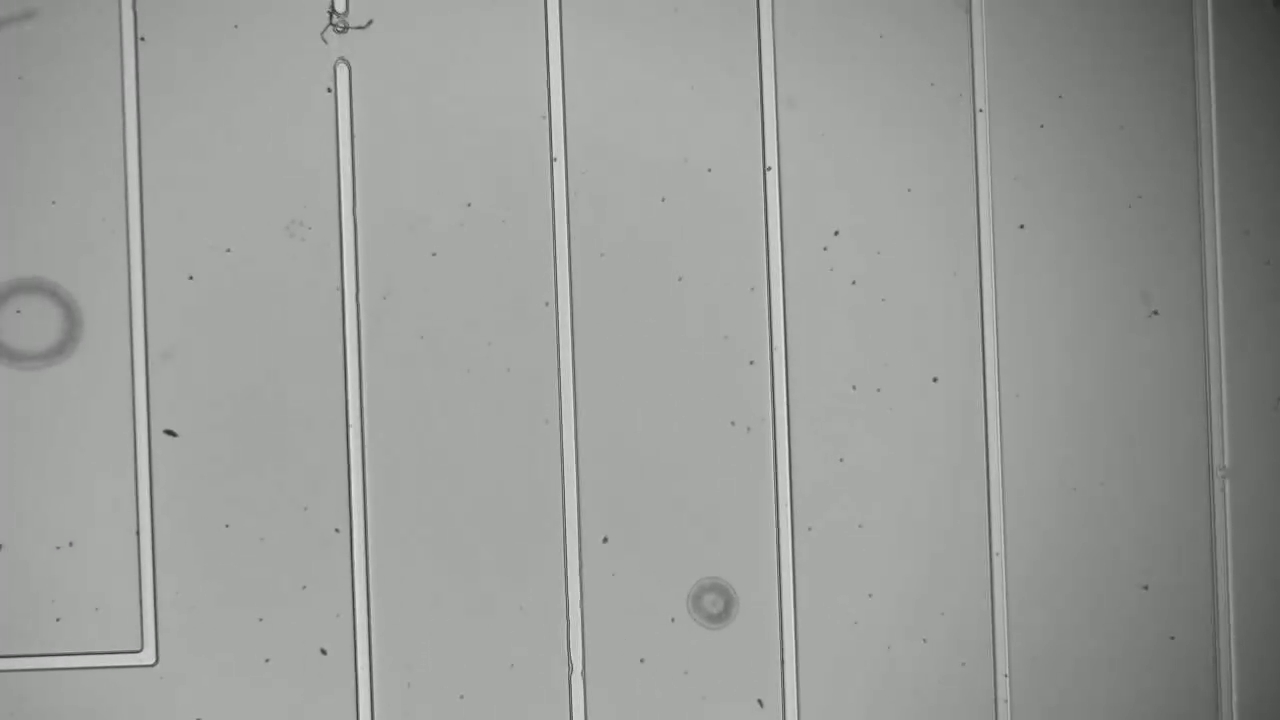edge_bite: (560, 645, 597, 689)
open: (313, 1, 371, 92)
